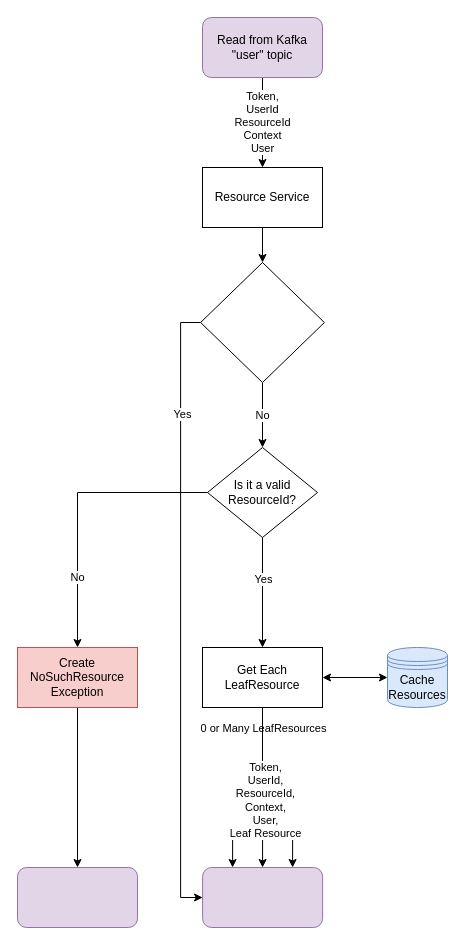
Some shapes in this 465 by 945 pixel diagram are drawn without their labels. Each missing label, with the centre of its shape:
Is it a Stream Marker?: (262,322)
Write to Kafka "error" topic: (77,897)
Write to Kafka "resource" topic: (262,897)
